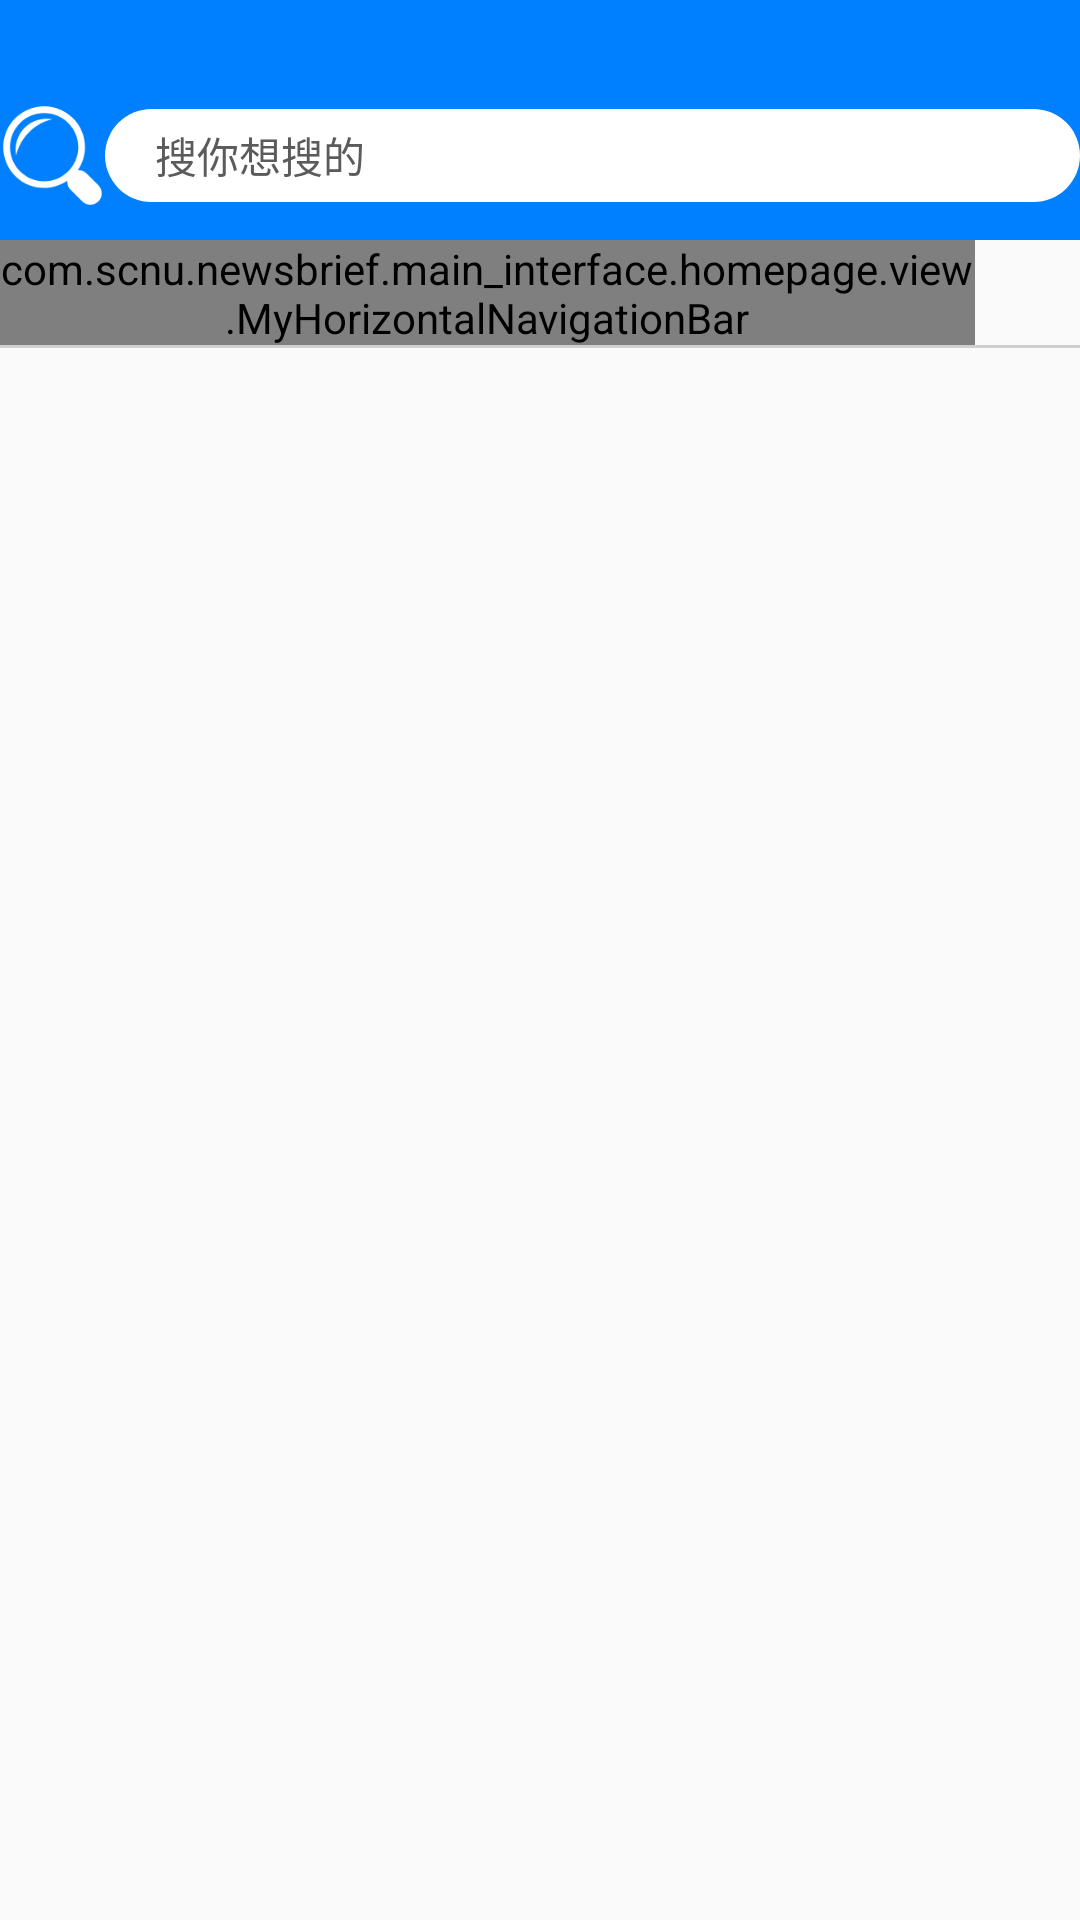

Screen size 1080 × 1920. Icon name, then its center in pixels as (x=x, y=y):
search: (x=52, y=155)
